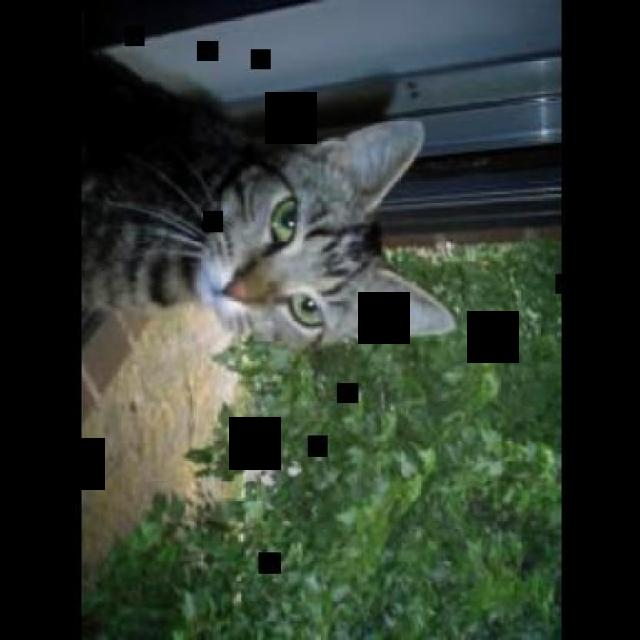unauthorized: (75, 46, 457, 359)
